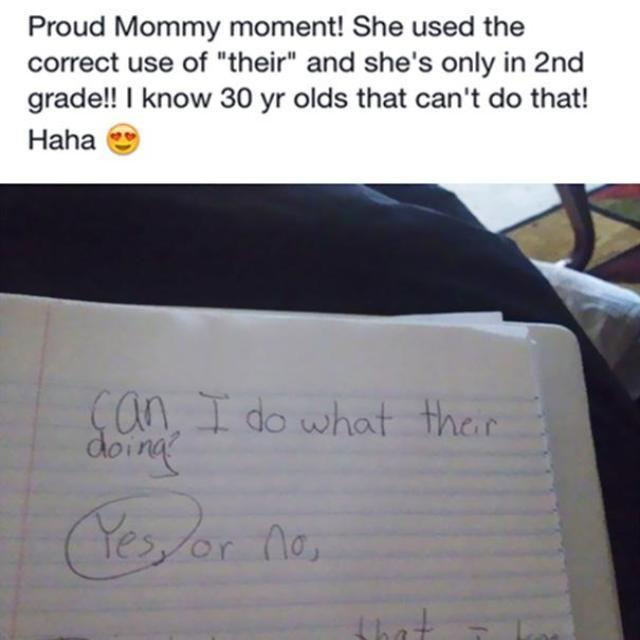A: (115, 390, 145, 434), (354, 417, 376, 436), (556, 92, 574, 109), (80, 133, 98, 150), (382, 91, 398, 110), (431, 92, 447, 110), (307, 55, 322, 73), (49, 132, 64, 150), (55, 92, 70, 109)
C: (90, 388, 111, 430), (414, 92, 430, 108), (28, 56, 43, 72), (96, 56, 110, 73)
D: (246, 396, 264, 432), (86, 429, 108, 458), (488, 85, 504, 108), (458, 14, 474, 36), (70, 86, 86, 108), (316, 86, 332, 108), (90, 14, 105, 37), (338, 51, 354, 72), (568, 51, 584, 72)
E: (116, 532, 138, 560), (253, 56, 270, 73), (510, 20, 526, 38), (388, 20, 404, 37), (442, 20, 458, 37), (158, 56, 174, 73), (394, 56, 410, 73), (296, 19, 311, 37), (88, 92, 104, 108), (79, 56, 94, 73), (460, 416, 472, 436)
F: (200, 50, 208, 72)
G: (153, 437, 179, 480), (28, 92, 44, 114)
H: (332, 400, 352, 438), (436, 398, 456, 436), (29, 128, 47, 150), (65, 127, 80, 150), (238, 50, 253, 72), (378, 52, 394, 72), (372, 14, 386, 36), (494, 14, 508, 36), (368, 87, 381, 108), (542, 88, 555, 108)
I: (200, 391, 232, 432), (474, 408, 482, 434), (128, 436, 134, 457), (504, 51, 509, 72), (271, 50, 275, 72), (128, 86, 132, 108)
K: (142, 85, 156, 108)
L: (474, 51, 480, 72), (312, 86, 314, 108)
M: (114, 14, 138, 36), (182, 20, 206, 36), (229, 20, 253, 36), (272, 19, 294, 36), (156, 21, 180, 36)
N: (262, 523, 288, 561), (146, 395, 170, 428), (312, 19, 328, 36), (138, 439, 152, 458), (322, 56, 338, 72), (458, 56, 474, 72), (447, 92, 462, 108), (157, 91, 171, 108), (511, 56, 525, 72), (552, 56, 566, 72)
O: (265, 413, 286, 433), (192, 539, 211, 558), (292, 534, 306, 556), (294, 91, 310, 109), (254, 19, 270, 36), (441, 56, 458, 72), (173, 92, 190, 108), (506, 92, 522, 109), (140, 20, 156, 36), (44, 56, 60, 72), (182, 56, 198, 72), (108, 442, 124, 458), (57, 19, 72, 36)
P: (30, 16, 46, 36)
R: (219, 542, 234, 560), (486, 418, 498, 436), (60, 56, 70, 72), (69, 56, 79, 72), (276, 92, 286, 108), (45, 91, 54, 108), (277, 56, 286, 72), (48, 20, 56, 36)
S: (353, 13, 371, 38), (138, 534, 156, 559), (418, 55, 433, 74), (363, 56, 379, 72), (334, 92, 348, 109), (428, 20, 442, 36), (144, 56, 157, 73)
T: (377, 403, 391, 437), (422, 399, 434, 432), (326, 16, 337, 36), (483, 16, 493, 37), (356, 88, 366, 108), (572, 88, 582, 108), (398, 89, 408, 108), (111, 52, 120, 72), (531, 88, 540, 108), (472, 88, 480, 109), (228, 53, 236, 72)
U: (128, 56, 143, 72), (74, 20, 88, 37), (412, 21, 427, 36)
W: (300, 416, 330, 434), (191, 93, 212, 108)
Y: (96, 512, 127, 560), (480, 56, 496, 78), (260, 91, 274, 115), (206, 20, 220, 41)
